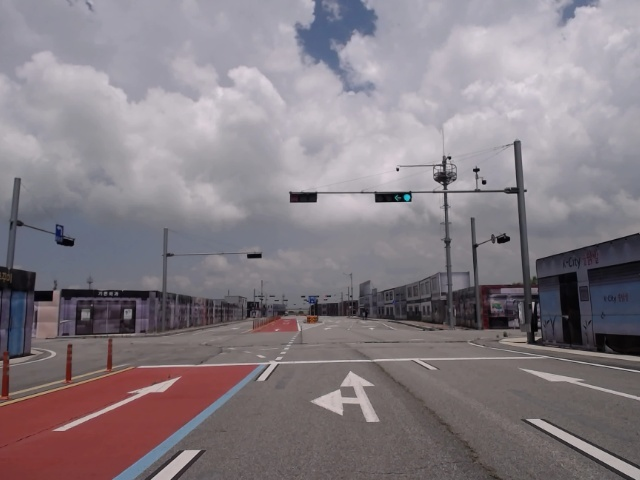all_green_4: (372, 193, 412, 204)
